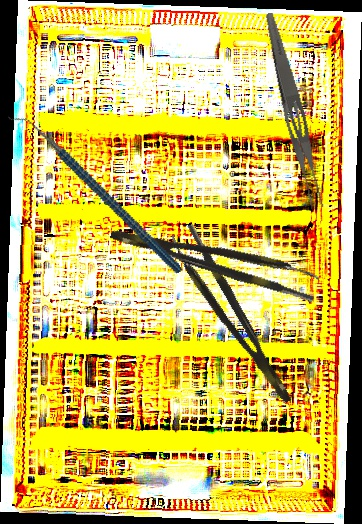Chopper: (7, 76, 183, 311)
Dressing Forceps: (255, 11, 330, 211)
Tissue Forceps: (167, 223, 295, 413), (108, 210, 322, 304)
